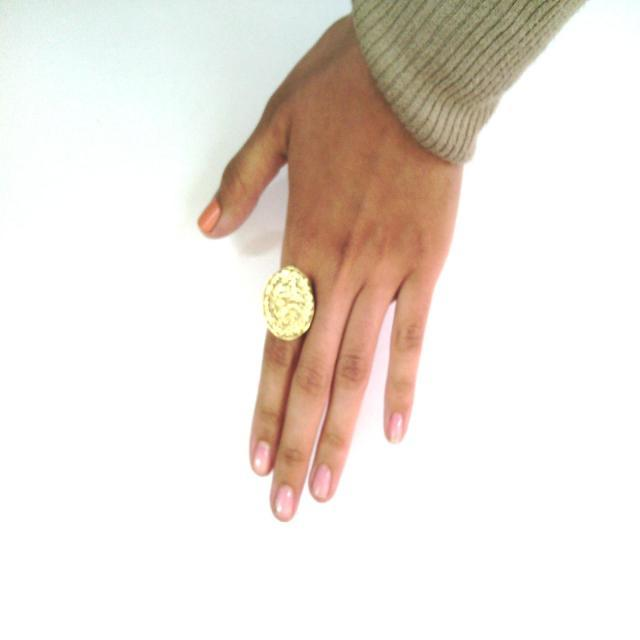Fingernail: (199, 200, 220, 231), (312, 465, 330, 499), (275, 486, 293, 518), (255, 441, 271, 471), (389, 413, 403, 443)
